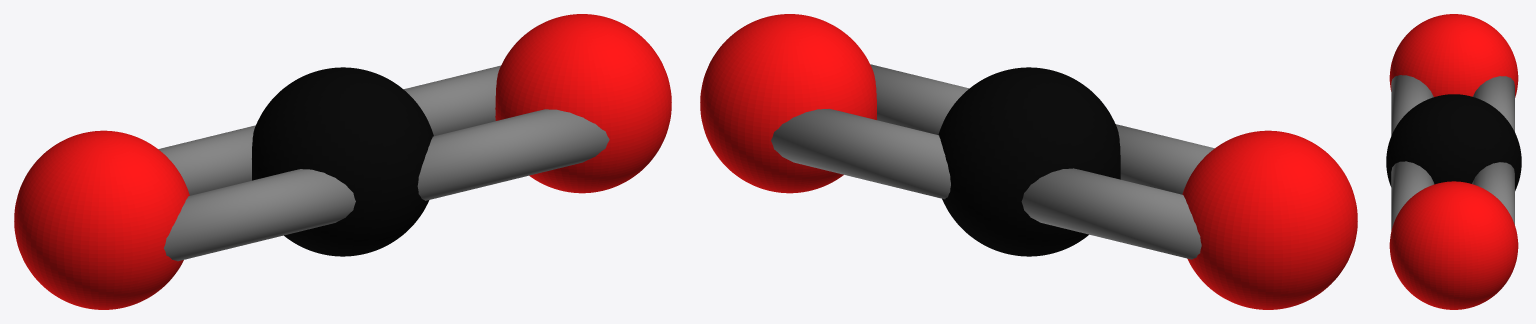
File: DIOXIDO CARBONO.obj
3 renders of one model, left to right at view 1: azimuth 30°, elevation 25°; view 2: azimuth 150°, elevation 25°; view 3: azimuth 270°, elevation 25°, orthographic. The views are drawn at different scales.
Parts seen in each view (by area): view 1: Oxygen_ball_Esfera, Carbon_ball_Esfera.001, Stick_Cylinder_0001.001_Cilindro.002, Stick_Cylinder_0000.001_Cilindro.003, Stick_Cylinder_0000_Cilindro, Stick_Cylinder_0001_Cilindro.001; view 2: Oxygen_ball_Esfera, Carbon_ball_Esfera.001, Stick_Cylinder_0000_Cilindro, Stick_Cylinder_0001_Cilindro.001, Stick_Cylinder_0000.001_Cilindro.003, Stick_Cylinder_0001.001_Cilindro.002; view 3: Oxygen_ball_Esfera, Carbon_ball_Esfera.001, Stick_Cylinder_0001.001_Cilindro.002, Stick_Cylinder_0001_Cilindro.001, Stick_Cylinder_0000.001_Cilindro.003, Stick_Cylinder_0000_Cilindro.
Part boxes in pixels (left/top/right/bottom): Oxygen_ball_Esfera: left=14, top=14, right=671, bottom=309; Carbon_ball_Esfera.001: left=252, top=67, right=433, bottom=256; Stick_Cylinder_0001.001_Cilindro.002: left=417, top=109, right=609, bottom=200; Stick_Cylinder_0000.001_Cilindro.003: left=164, top=169, right=355, bottom=261; Stick_Cylinder_0000_Cilindro: left=158, top=125, right=255, bottom=195; Stick_Cylinder_0001_Cilindro.001: left=404, top=65, right=500, bottom=135; Oxygen_ball_Esfera: left=700, top=14, right=1357, bottom=309; Carbon_ball_Esfera.001: left=938, top=67, right=1120, bottom=256; Stick_Cylinder_0000_Cilindro: left=1021, top=168, right=1201, bottom=259; Stick_Cylinder_0001_Cilindro.001: left=771, top=109, right=950, bottom=199; Stick_Cylinder_0000.001_Cilindro.003: left=1115, top=124, right=1214, bottom=194; Stick_Cylinder_0001.001_Cilindro.002: left=870, top=64, right=969, bottom=134; Oxygen_ball_Esfera: left=1389, top=14, right=1518, bottom=309; Carbon_ball_Esfera.001: left=1386, top=94, right=1521, bottom=190; Stick_Cylinder_0001.001_Cilindro.002: left=1391, top=161, right=1434, bottom=230; Stick_Cylinder_0001_Cilindro.001: left=1472, top=162, right=1514, bottom=224; Stick_Cylinder_0000.001_Cilindro.003: left=1391, top=75, right=1433, bottom=135; Stick_Cylinder_0000_Cilindro: left=1473, top=76, right=1514, bottom=131.
Bounding box in the file's own units: 4.77 × 1.23 × 1.23.
